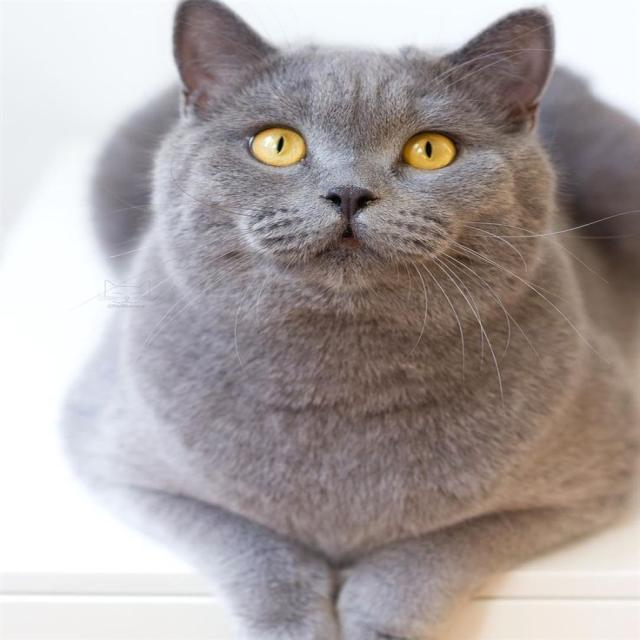british shorthair: (63, 0, 639, 639)
